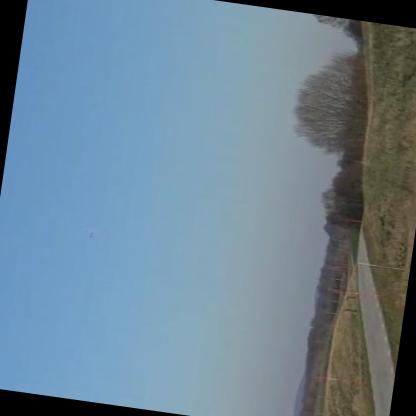plane: (85, 227, 94, 239)
